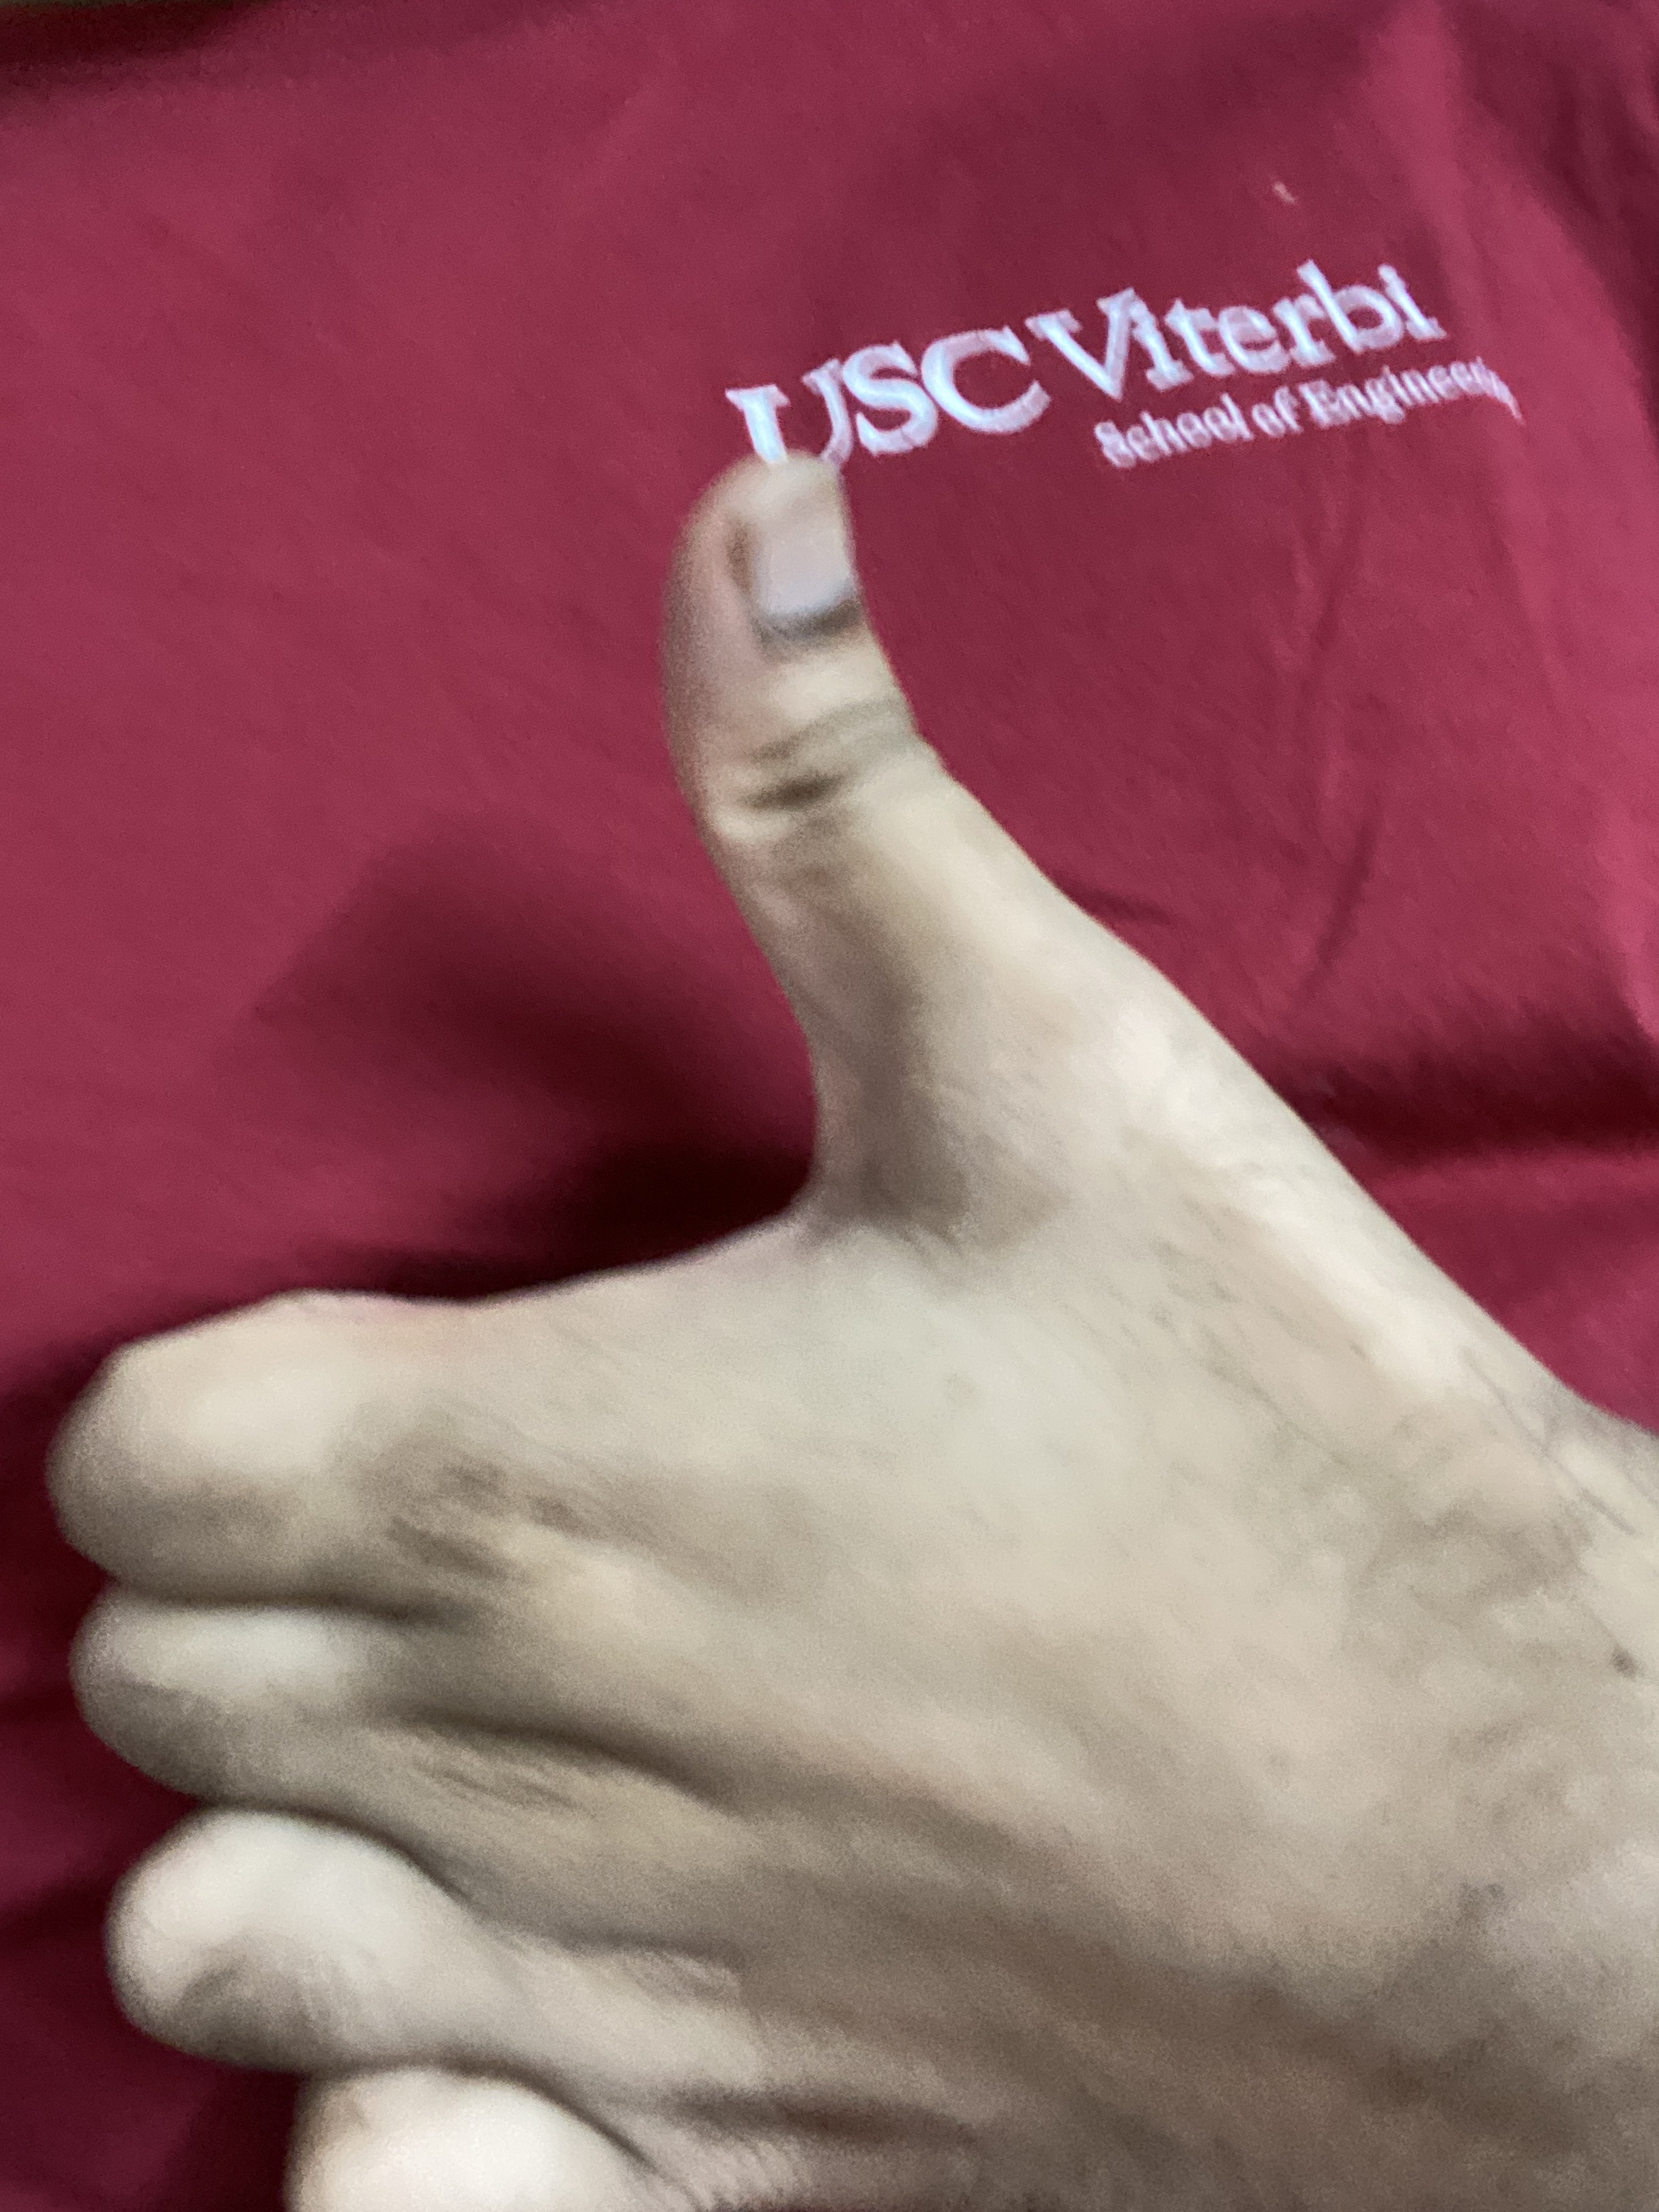up: (190, 298, 1659, 2212)
